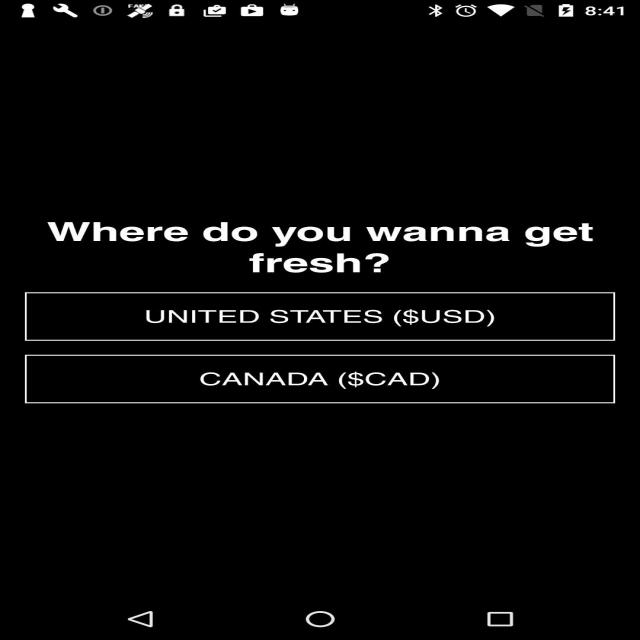button: (26, 354, 618, 403), (27, 294, 616, 341)
image: (24, 209, 622, 281)
text: (131, 300, 546, 332), (153, 364, 488, 397)
